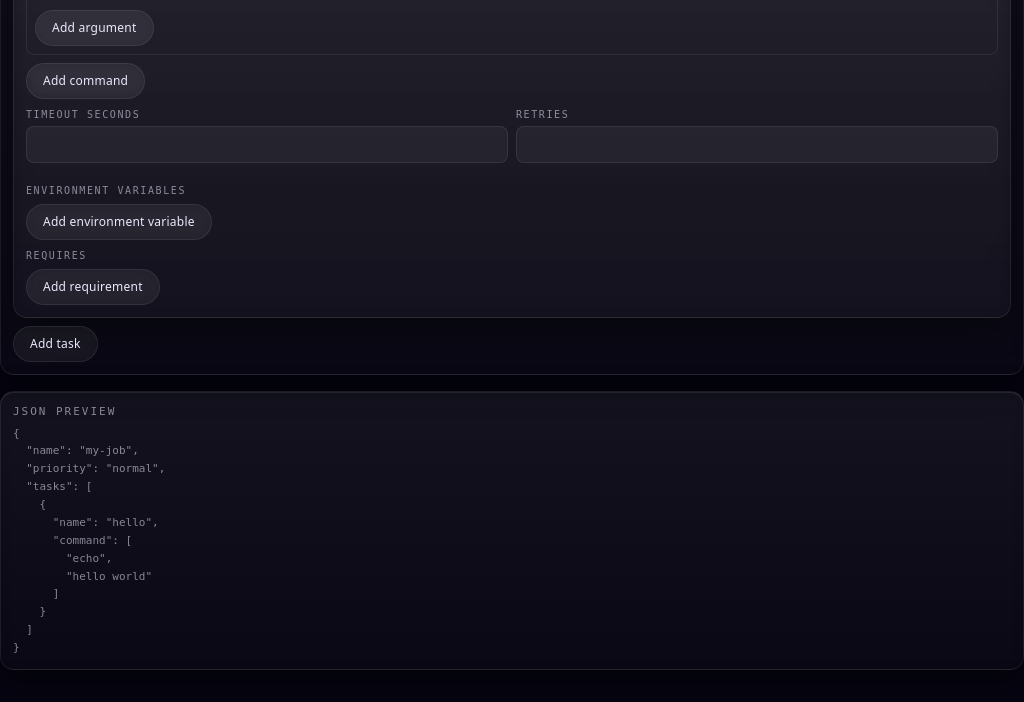
Scenario: a task row group is named by its task name and falls back to its position
The image size is (1024, 702).
(page scrolled)
Click the button "Add task": (55, 344) [13,326,98,362]
(page scrolled)
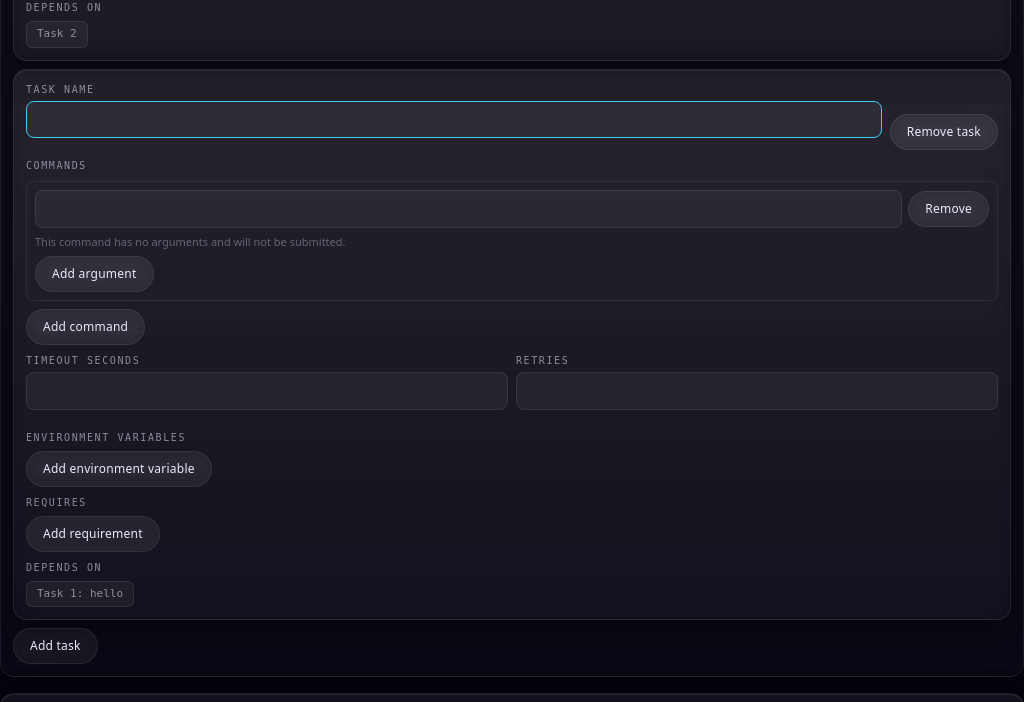
Check: the element named "Task 2" is shown
